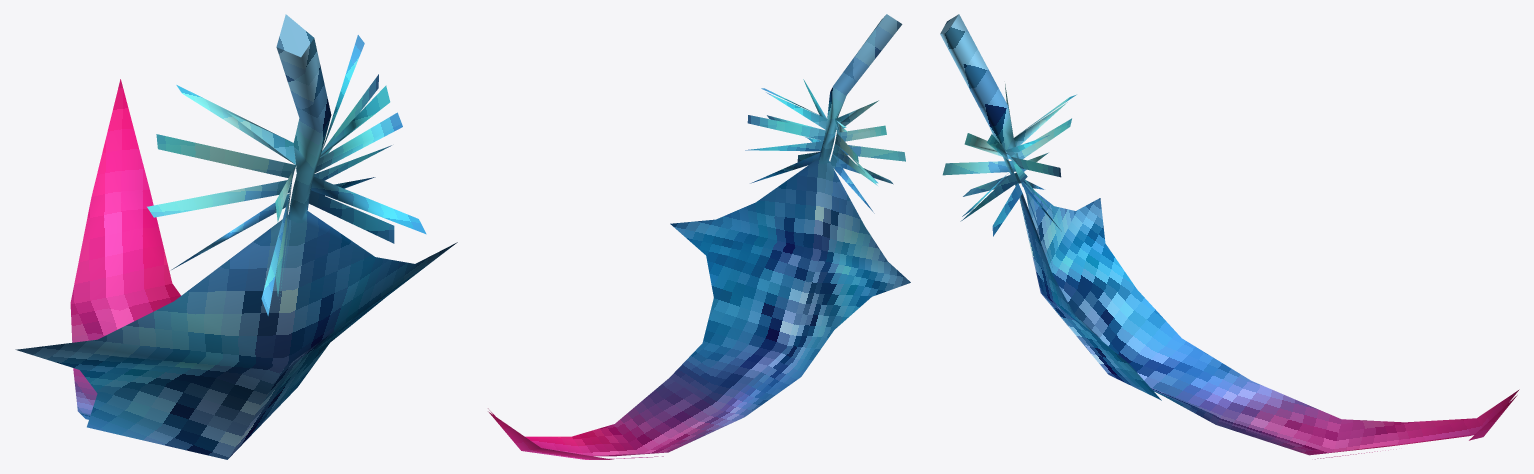
File: condolwing.glb
3 views of the same model, side by side, from view 1: azimuth 30°, elevation 25°; view 2: azimuth 150°, elevation 25°; view 3: azimuth 270°, elevation 25° (orthographic). The views are drawn at different scales.
Parts seen in each view (by area): view 1: model_condolwing; view 2: model_condolwing; view 3: model_condolwing.
Boxes of the visible parts, left/top/right/bottom form: model_condolwing: left=15, top=14, right=457, bottom=459; model_condolwing: left=488, top=14, right=910, bottom=459; model_condolwing: left=940, top=14, right=1519, bottom=459.
Bounding box in the file's own units: 0.1971 × 0.27 × 0.358.
Materials: 1 (1 with a texture image).
